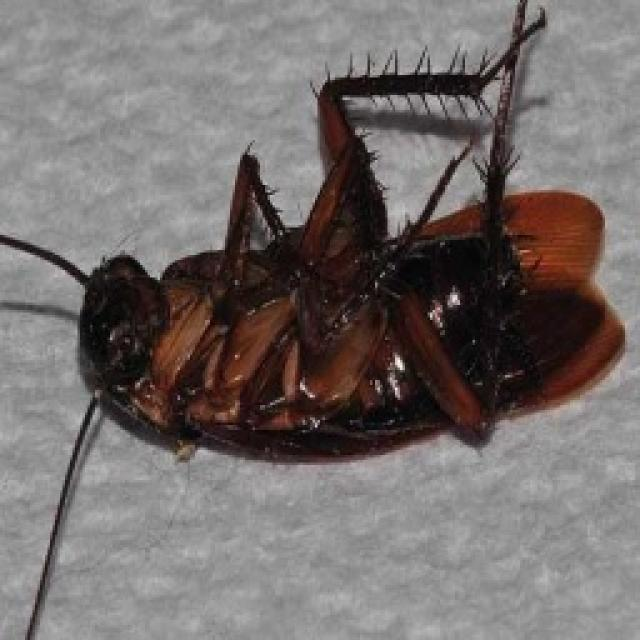cockroach: (37, 70, 625, 498)
